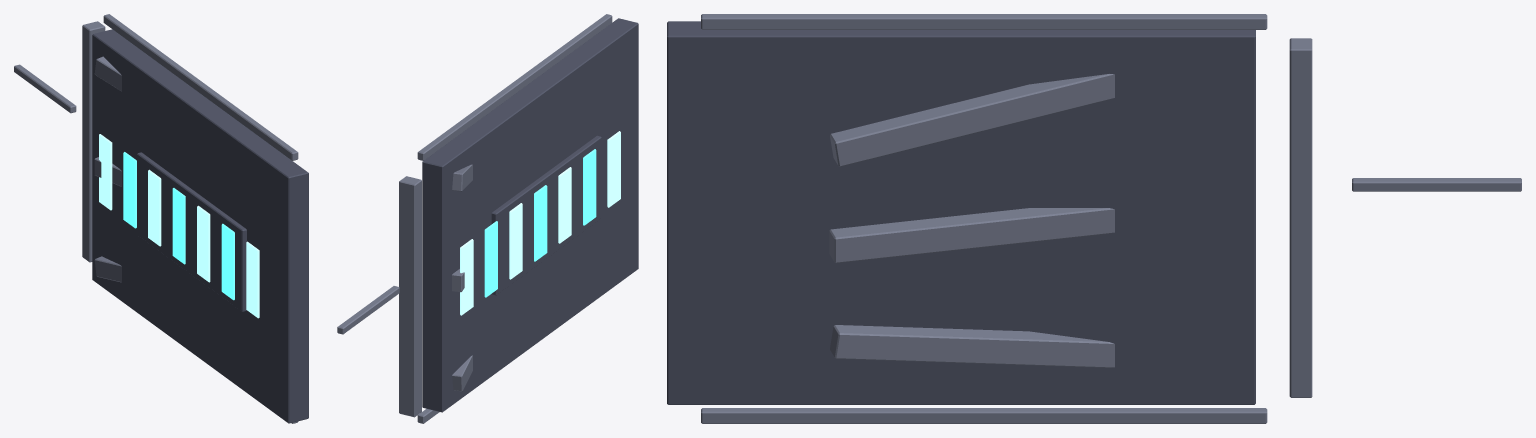
The model's file is facade_fin_r.glb.
The picture shows the model from 3 angles, left to right: view 1: azimuth 30°, elevation 25°; view 2: azimuth 150°, elevation 25°; view 3: azimuth 270°, elevation 25°; orthographic projection. The views are drawn at different scales.
Parts seen in each view (by area): view 1: FacadeFin_R; view 2: FacadeFin_R; view 3: FacadeFin_R.
Boxes of the visible parts, x1,y1,x2,y2 form: FacadeFin_R: [14, 14, 308, 423]; FacadeFin_R: [337, 14, 638, 423]; FacadeFin_R: [667, 14, 1521, 423].
Bounding box in the file's own units: 1.08 × 3.96 × 7.55.
